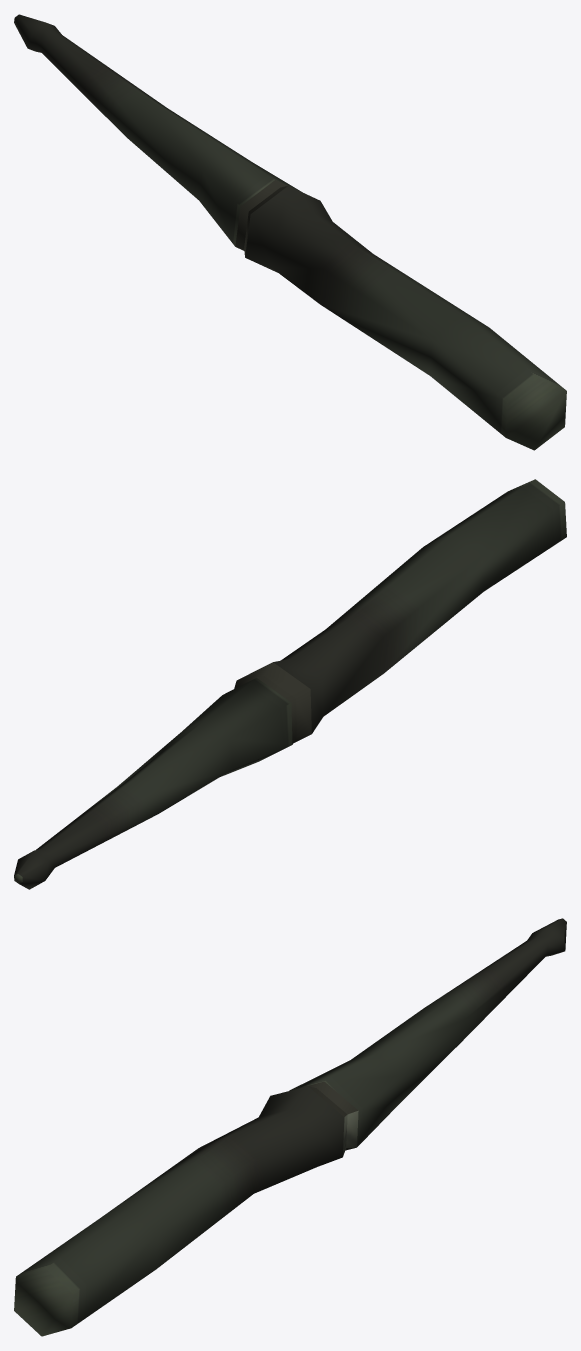
Rendered from Phase 3 Bamboo 4.fbx.
3 views of the same model, one above another, from view 1: azimuth 30°, elevation 25°; view 2: azimuth 150°, elevation 25°; view 3: azimuth 330°, elevation 25° (orthographic). The views are drawn at different scales.
Parts seen in each view (by area): view 1: Phase 3 Bamboo 4; view 2: Phase 3 Bamboo 4; view 3: Phase 3 Bamboo 4.
Part boxes in pixels (<box>): Phase 3 Bamboo 4: <box>14,14,566,450</box>; Phase 3 Bamboo 4: <box>14,479,566,889</box>; Phase 3 Bamboo 4: <box>14,918,566,1336</box>.
Size of the model in its own units: 28.75 by 31.97 by 338.
